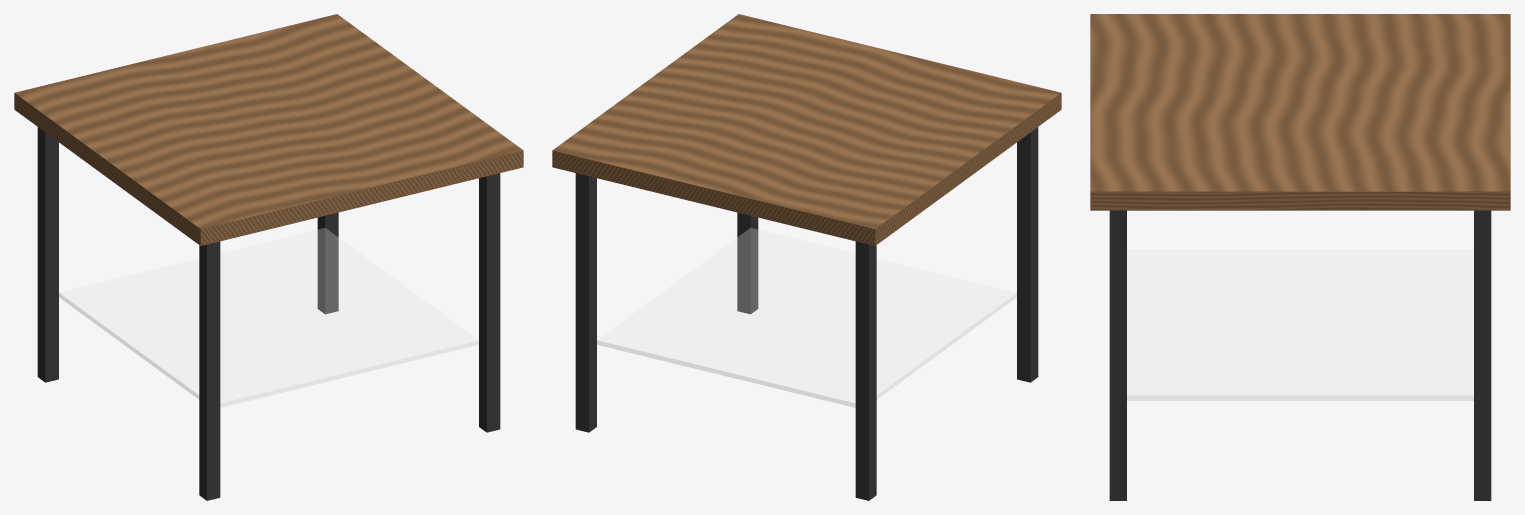
The model's file is nested-side-table.glb.
3 renders of one model, left to right at view 1: azimuth 30°, elevation 25°; view 2: azimuth 150°, elevation 25°; view 3: azimuth 270°, elevation 25°, orthographic. The views are drawn at different scales.
Visible parts, largest first — view 1: Top, Glass shelf, Leg 4, Leg 3, Leg 1, Leg 2; view 2: Top, Glass shelf, Leg 1, Leg 2, Leg 4, Leg 3; view 3: Top, Glass shelf, Leg 2, Leg 3.
Boxes of the visible parts, box(x1,y1,x2,y2) form: Top: box(14, 14, 523, 245); Glass shelf: box(59, 228, 478, 407); Leg 4: box(199, 241, 220, 500); Leg 3: box(479, 173, 500, 432); Leg 1: box(37, 127, 58, 382); Leg 2: box(317, 212, 338, 314); Top: box(552, 14, 1061, 245); Glass shelf: box(597, 228, 1016, 407); Leg 1: box(855, 241, 876, 500); Leg 2: box(575, 173, 596, 432); Leg 4: box(1017, 127, 1038, 382); Leg 3: box(737, 212, 758, 314); Top: box(1090, 14, 1510, 210); Glass shelf: box(1127, 249, 1473, 400); Leg 2: box(1474, 210, 1491, 500); Leg 3: box(1109, 210, 1126, 500).
Bounding box in the file's own units: 0.6 × 0.5 × 0.6.
Materials: 3 (1 with a texture image).
